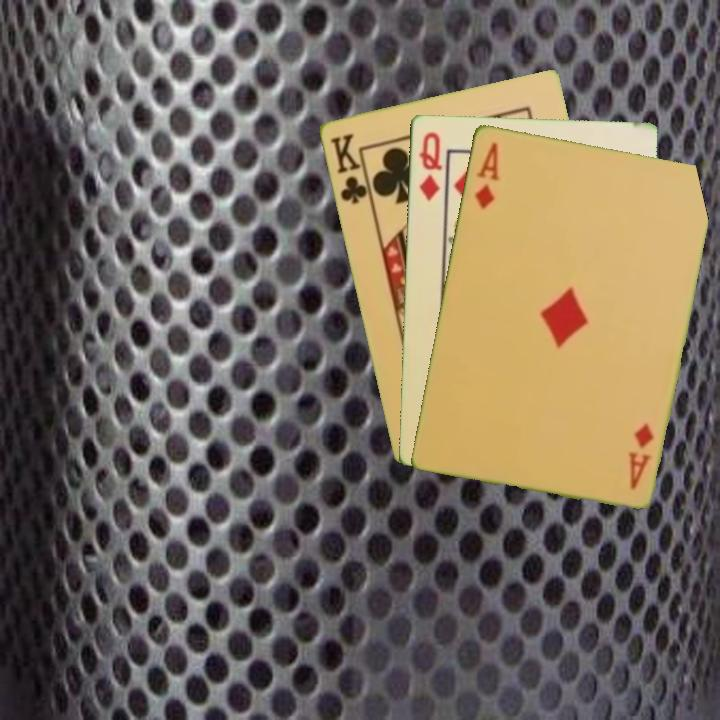Ad: (624, 418, 657, 493), (471, 138, 502, 211)
Kc: (325, 129, 374, 207)
Qd: (415, 128, 444, 203)
